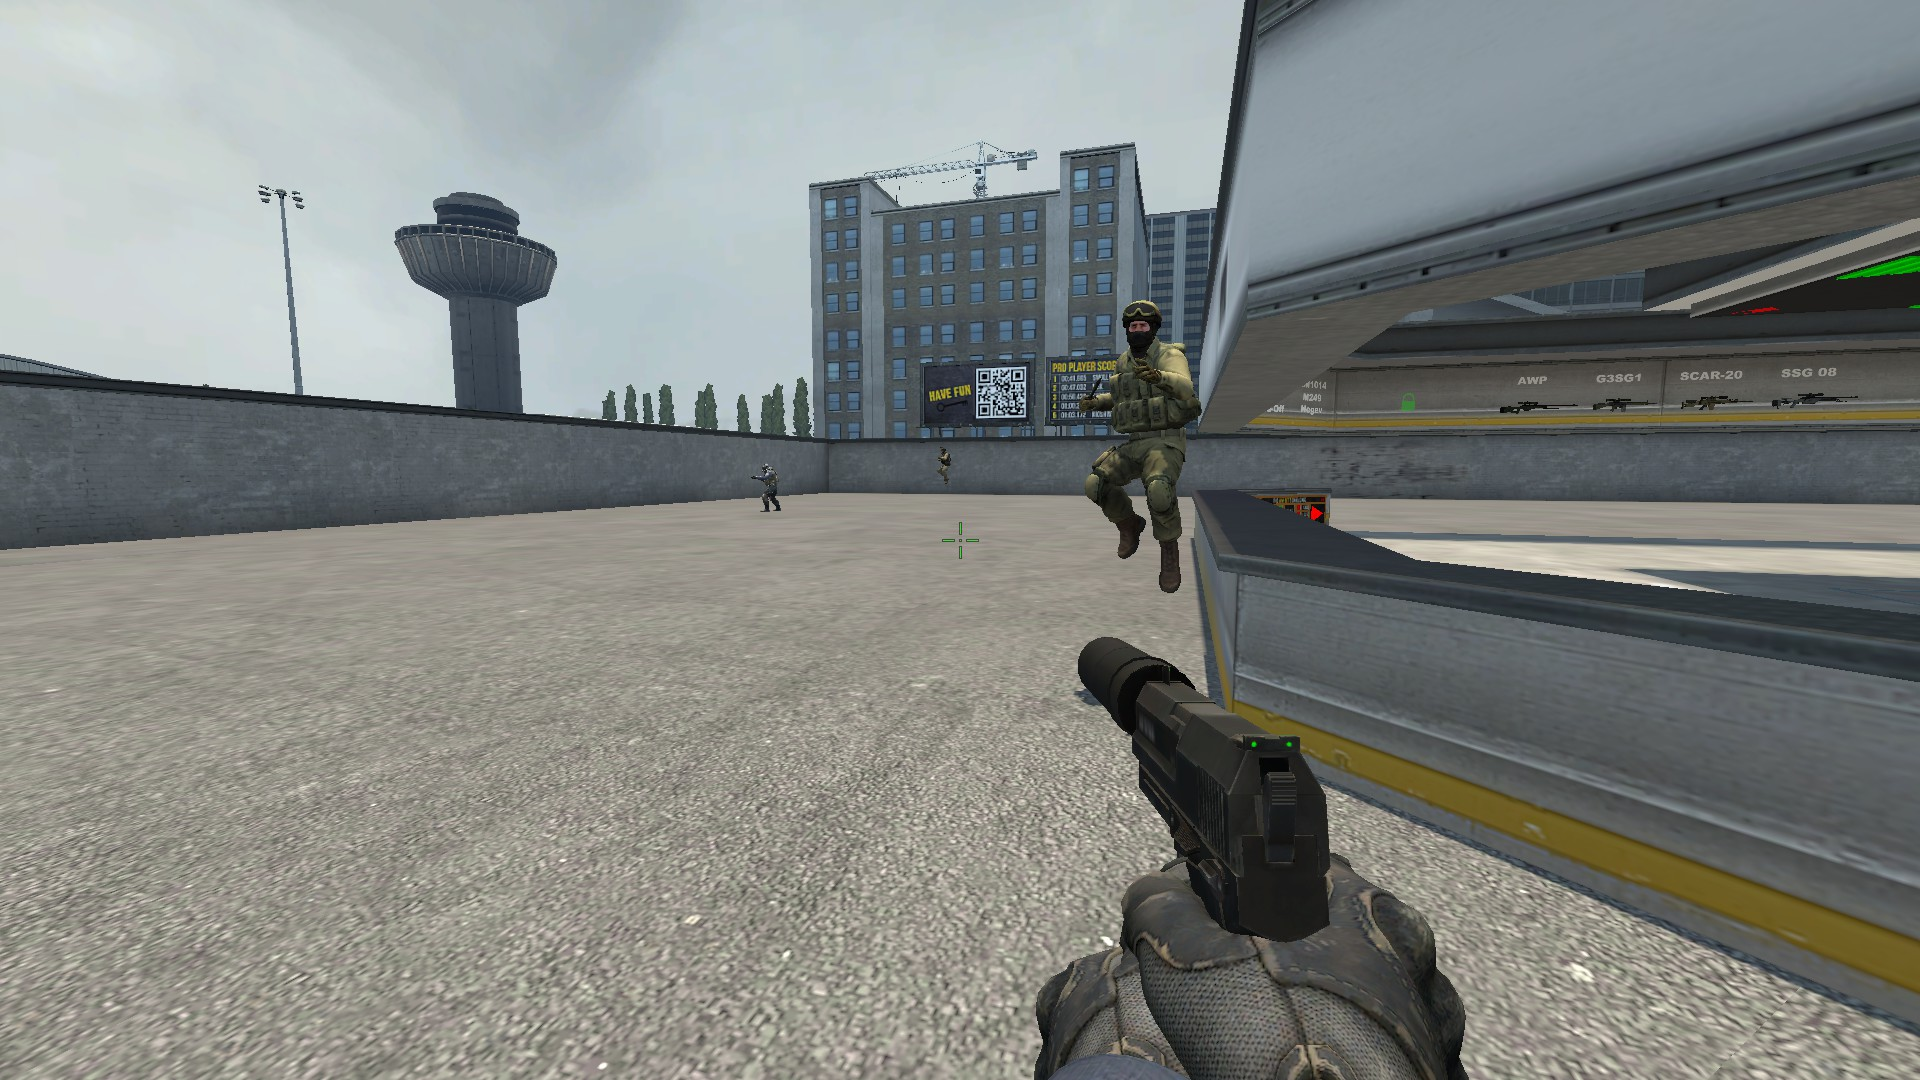ct: (1081, 295, 1204, 603)
ct head: (1110, 293, 1167, 361)
